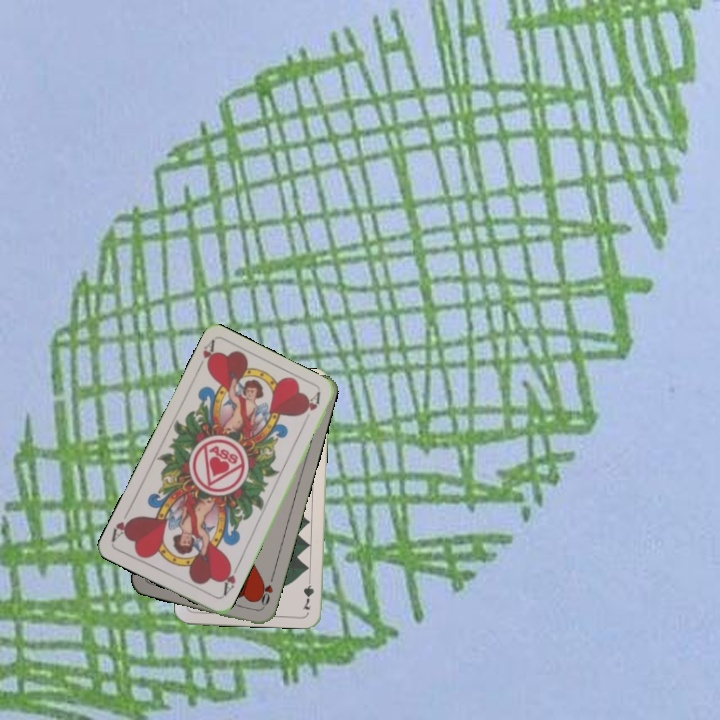G7: (299, 572, 316, 612)
HA: (192, 337, 219, 375), (218, 559, 241, 599)
HO: (254, 571, 276, 611)
